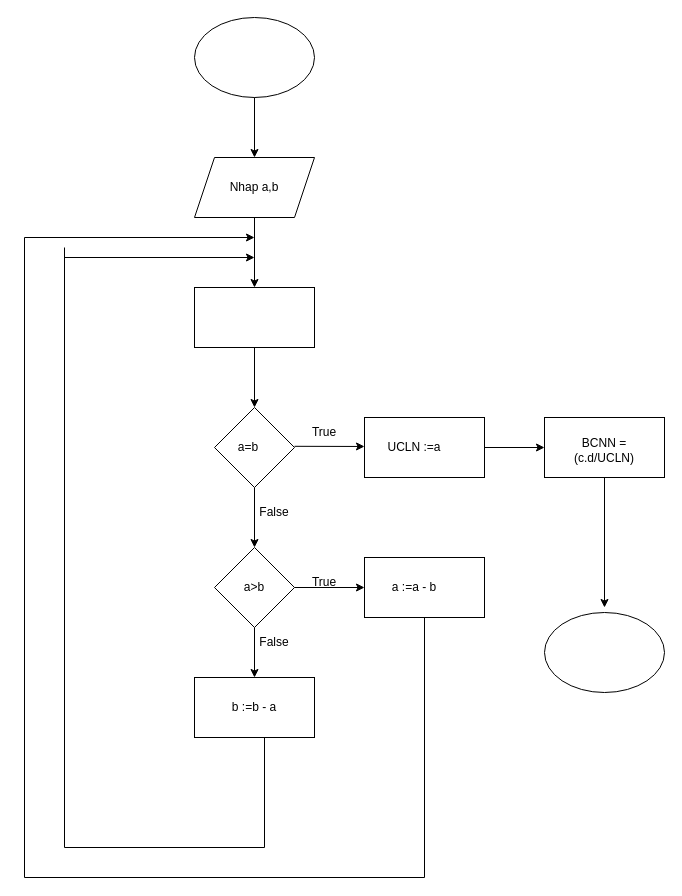
Some shapes in this 682 by 896 pixel diagram are drawn without their labels. The centre of each missing label's shape, as x and y in pixels:
"c :=a d :=b" belongs at (254,317).
"End" belongs at (604,652).
"Start" belongs at (254,57).
